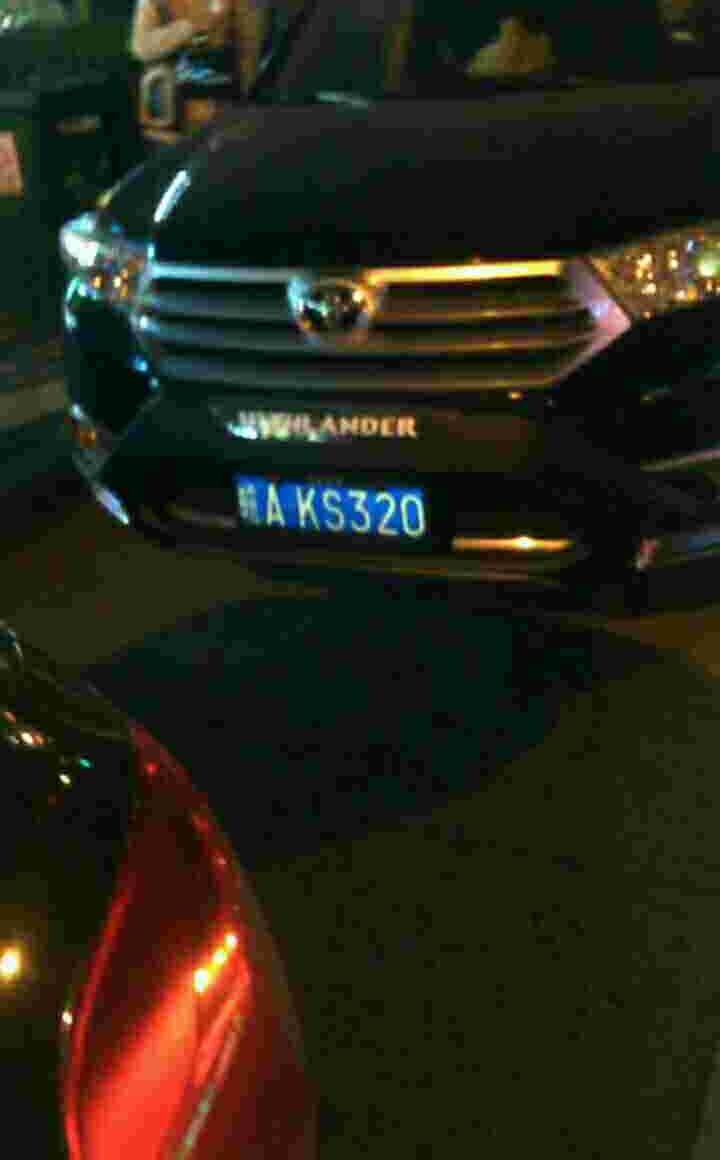license_plate: (239, 471, 432, 542)
